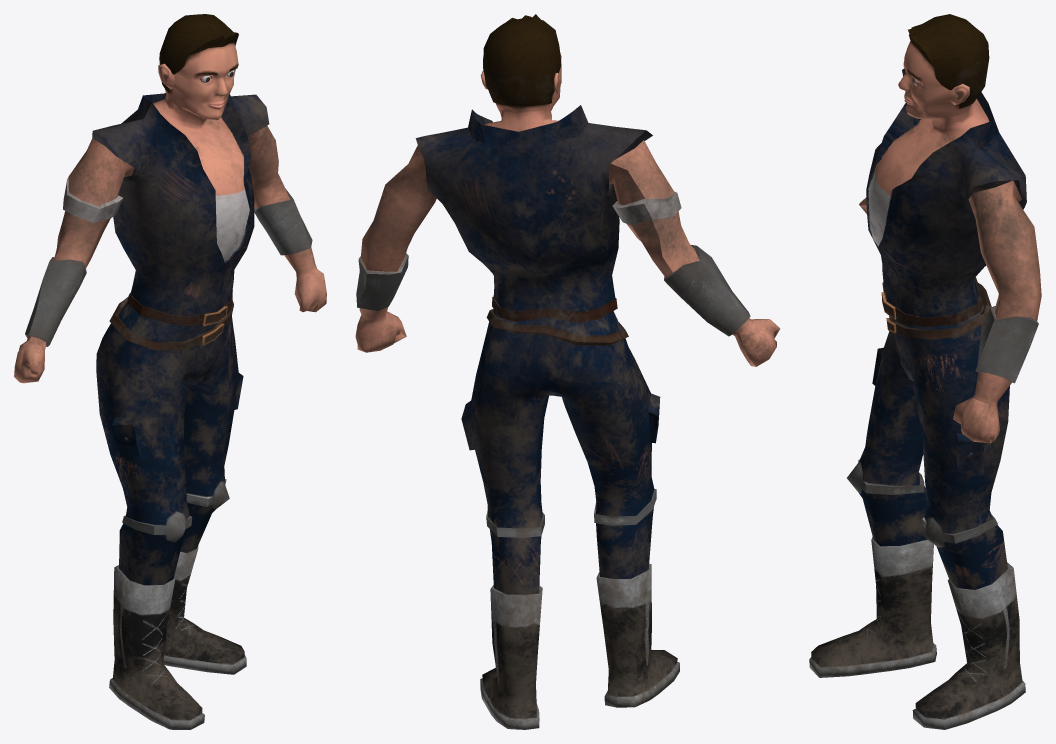
The model's file is Anim_interruptor_jugador.0033.obj.
The picture shows the model from 3 angles, left to right: view 1: azimuth 30°, elevation 25°; view 2: azimuth 150°, elevation 25°; view 3: azimuth 270°, elevation 25°; orthographic projection. The views are drawn at different scales.
Parts seen in each view (by area): view 1: polySurface1; view 2: polySurface1; view 3: polySurface1.
Part boxes in pixels (x1=…): polySurface1: x1=14, y1=14, x2=326, y2=729; polySurface1: x1=355, y1=14, x2=780, y2=729; polySurface1: x1=809, y1=14, x2=1041, y2=729.
Size of the model in its own units: 5.48 by 9.58 by 2.93.
